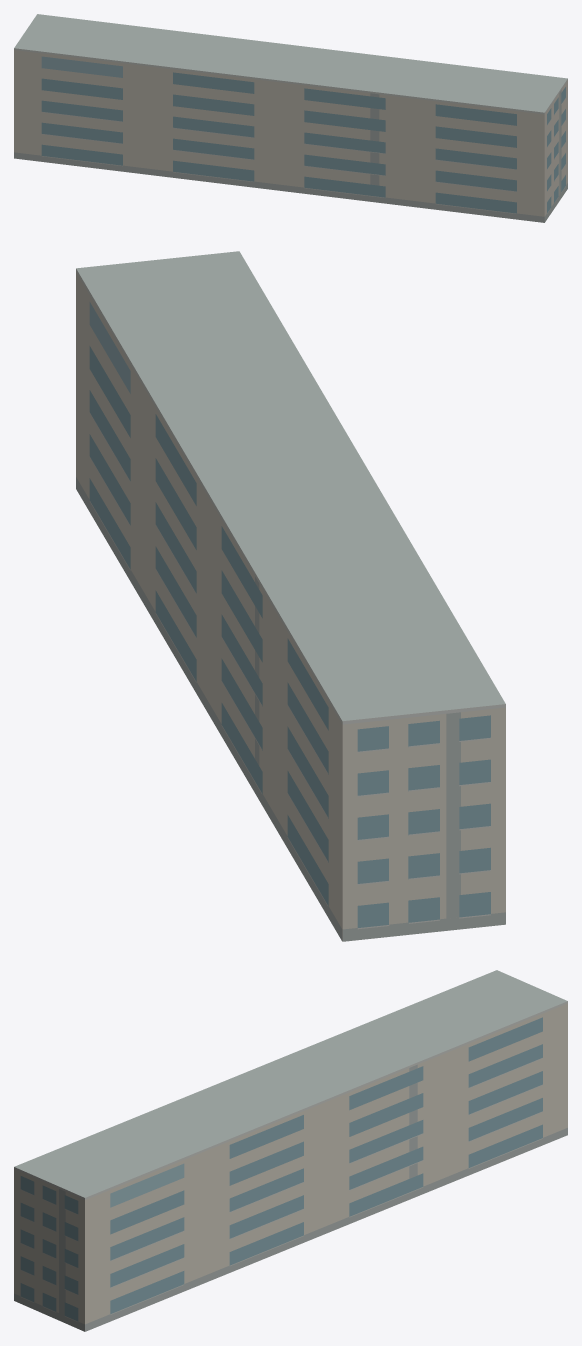
The model's file is residential-b0bdc5cb-eb6f-4881-8a4a-9111d9ac9825.glb.
3 views of the same model, one above another, from view 1: azimuth 30°, elevation 25°; view 2: azimuth 150°, elevation 25°; view 3: azimuth 270°, elevation 25° (orthographic). The views are drawn at different scales.
Parts seen in each view (by area): view 1: residential-b0bdc5cb-eb6f-4881-8a4a-9111d9ac9825.tmp; view 2: residential-b0bdc5cb-eb6f-4881-8a4a-9111d9ac9825.tmp; view 3: residential-b0bdc5cb-eb6f-4881-8a4a-9111d9ac9825.tmp.
Part boxes in pixels (x1,y1,x2,y2): residential-b0bdc5cb-eb6f-4881-8a4a-9111d9ac9825.tmp: (14,14,567,222); residential-b0bdc5cb-eb6f-4881-8a4a-9111d9ac9825.tmp: (76,251,505,941); residential-b0bdc5cb-eb6f-4881-8a4a-9111d9ac9825.tmp: (14,970,567,1331).
Bounding box in the file's own units: 55.64 × 15.25 × 57.14.
